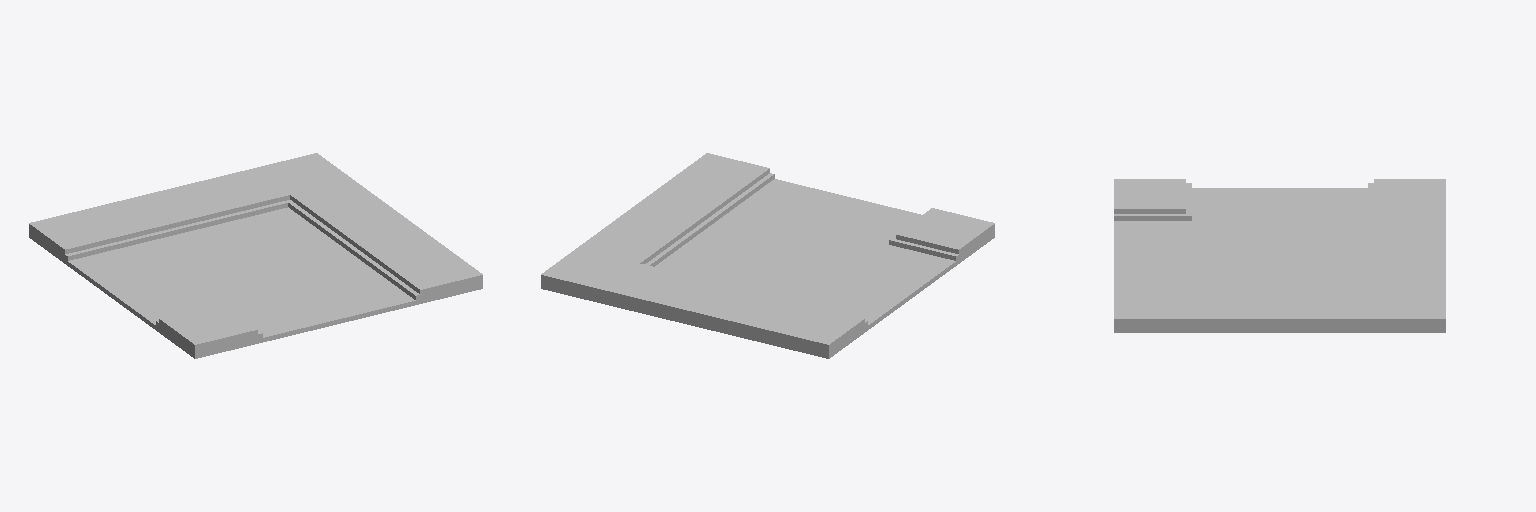
Rendered from road_intersection_turn.obj.
3 views of the same model, side by side, from view 1: azimuth 30°, elevation 25°; view 2: azimuth 150°, elevation 25°; view 3: azimuth 270°, elevation 25° (orthographic).
Parts seen in each view (by area): view 1: object 1; view 2: object 1; view 3: object 1.
Boxes of the visible parts, box(x1,y1,x2,y2) form: object 1: box(29, 153, 482, 358); object 1: box(541, 153, 994, 358); object 1: box(1114, 179, 1445, 332).
Size of the model in its own units: 6.4 by 0.3 by 6.4.